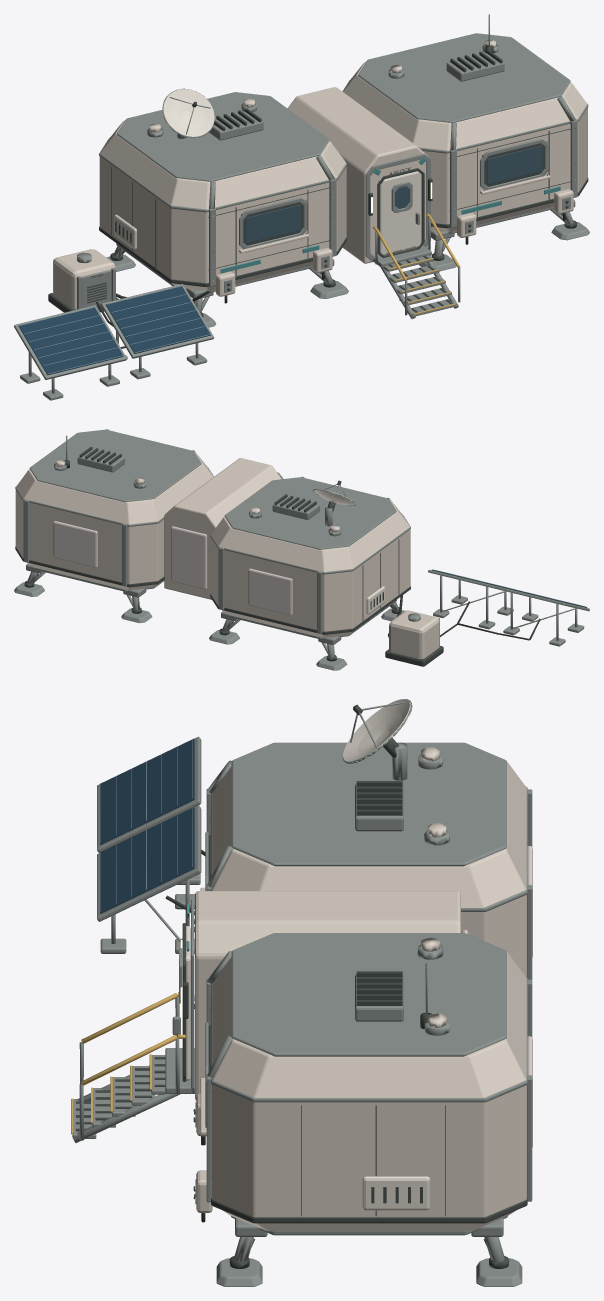
The model's file is habitat.glb.
3 views of the same model, one above another, from view 1: azimuth 30°, elevation 25°; view 2: azimuth 150°, elevation 25°; view 3: azimuth 270°, elevation 25° (orthographic). The views are drawn at different scales.
Visible parts, largest first — view 1: Access_Stairs__Brushed_titanium; view 2: Access_Stairs__Brushed_titanium; view 3: Access_Stairs__Brushed_titanium.
Part boxes in pixels (left/top/right/bottom): Access_Stairs__Brushed_titanium: left=14, top=14, right=589, bottom=400; Access_Stairs__Brushed_titanium: left=14, top=429, right=589, bottom=670; Access_Stairs__Brushed_titanium: left=71, top=699, right=532, bottom=1286.
Bounding box in the file's own units: 16.36 × 4.93 × 6.81.
2 materials, 2 textured.
